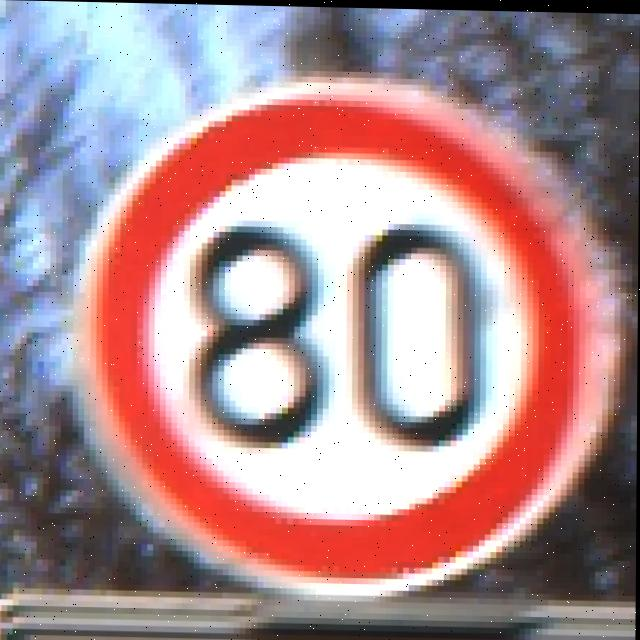speed_limit_80: (72, 83, 590, 600)
